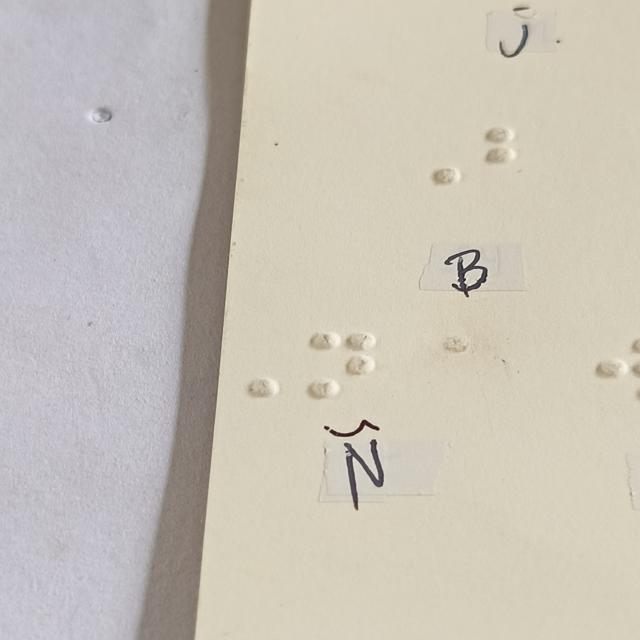capital_sign: (221, 331, 279, 396), (402, 126, 460, 187)
letter_B: (487, 124, 545, 185)
letter_N: (312, 330, 377, 395)
